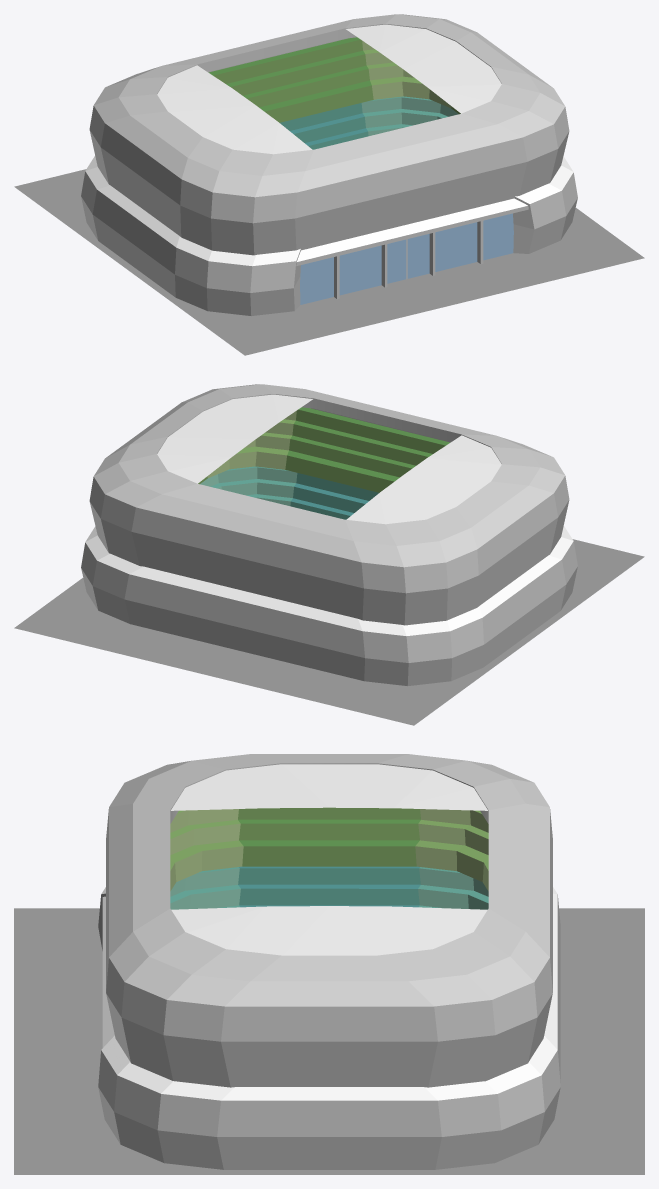
Rendered from stadium_009.fbx.
3 views of the same model, one above another, from view 1: azimuth 30°, elevation 25°; view 2: azimuth 150°, elevation 25°; view 3: azimuth 270°, elevation 25° (orthographic). The views are drawn at different scales.
Visible parts, largest first — view 1: stadium_009; view 2: stadium_009; view 3: stadium_009.
Boxes of the visible parts, left/top/right/bottom form: stadium_009: left=14, top=14, right=644, bottom=355; stadium_009: left=14, top=384, right=644, bottom=725; stadium_009: left=14, top=754, right=644, bottom=1174.
Size of the model in its own units: 1600 by 536 by 1600.
